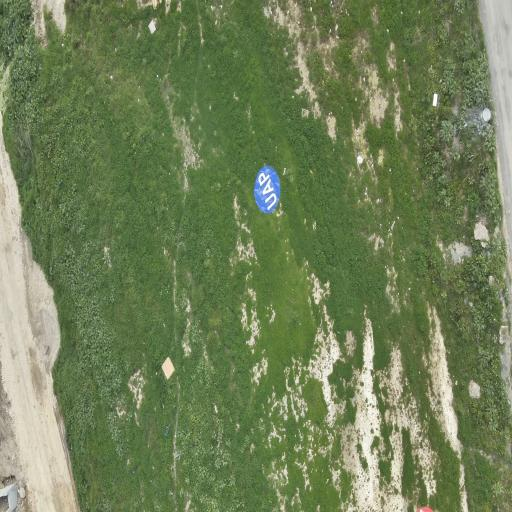UAP: (254, 166, 280, 213)
